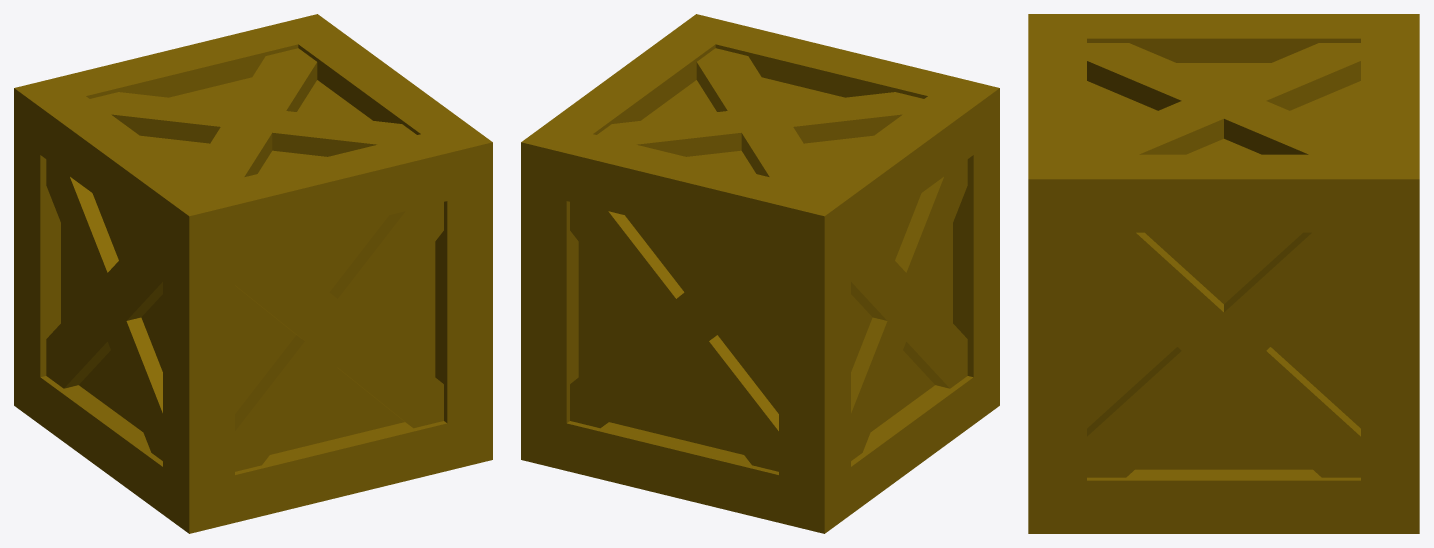
3 renders of one model, left to right at view 1: azimuth 30°, elevation 25°; view 2: azimuth 150°, elevation 25°; view 3: azimuth 270°, elevation 25°, orthographic. The views are drawn at different scales.
Parts seen in each view (by area): view 1: pCube7; view 2: pCube7; view 3: pCube7.
Part boxes in pixels (x1,y1,x2,y2): pCube7: (14, 14, 492, 533); pCube7: (521, 14, 999, 533); pCube7: (1028, 14, 1419, 533).
Bounding box in the file's own units: 74.05 × 74.05 × 74.05.
